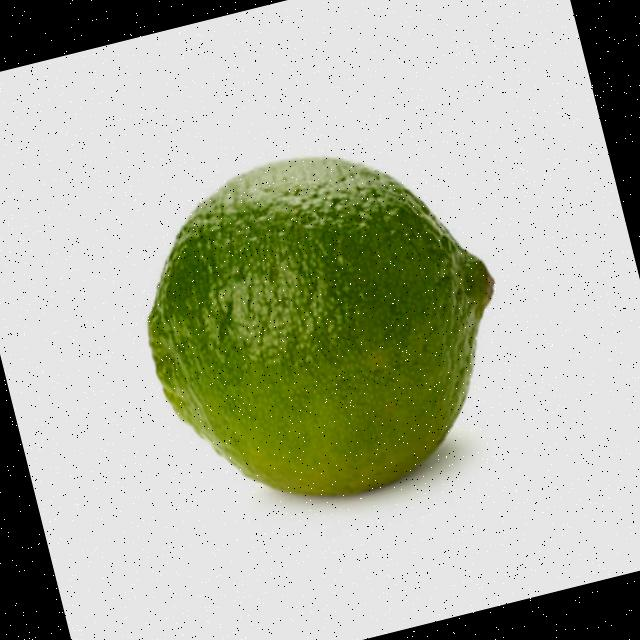Unripe: (111, 112, 534, 532)
